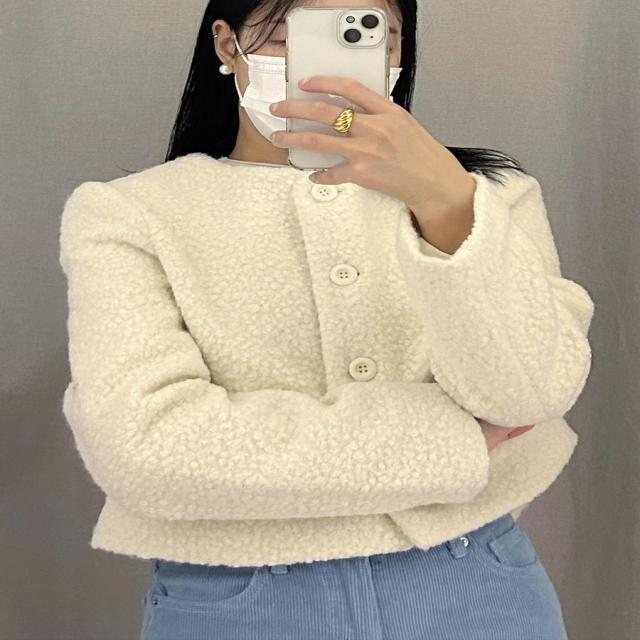phone: (286, 6, 390, 171)
